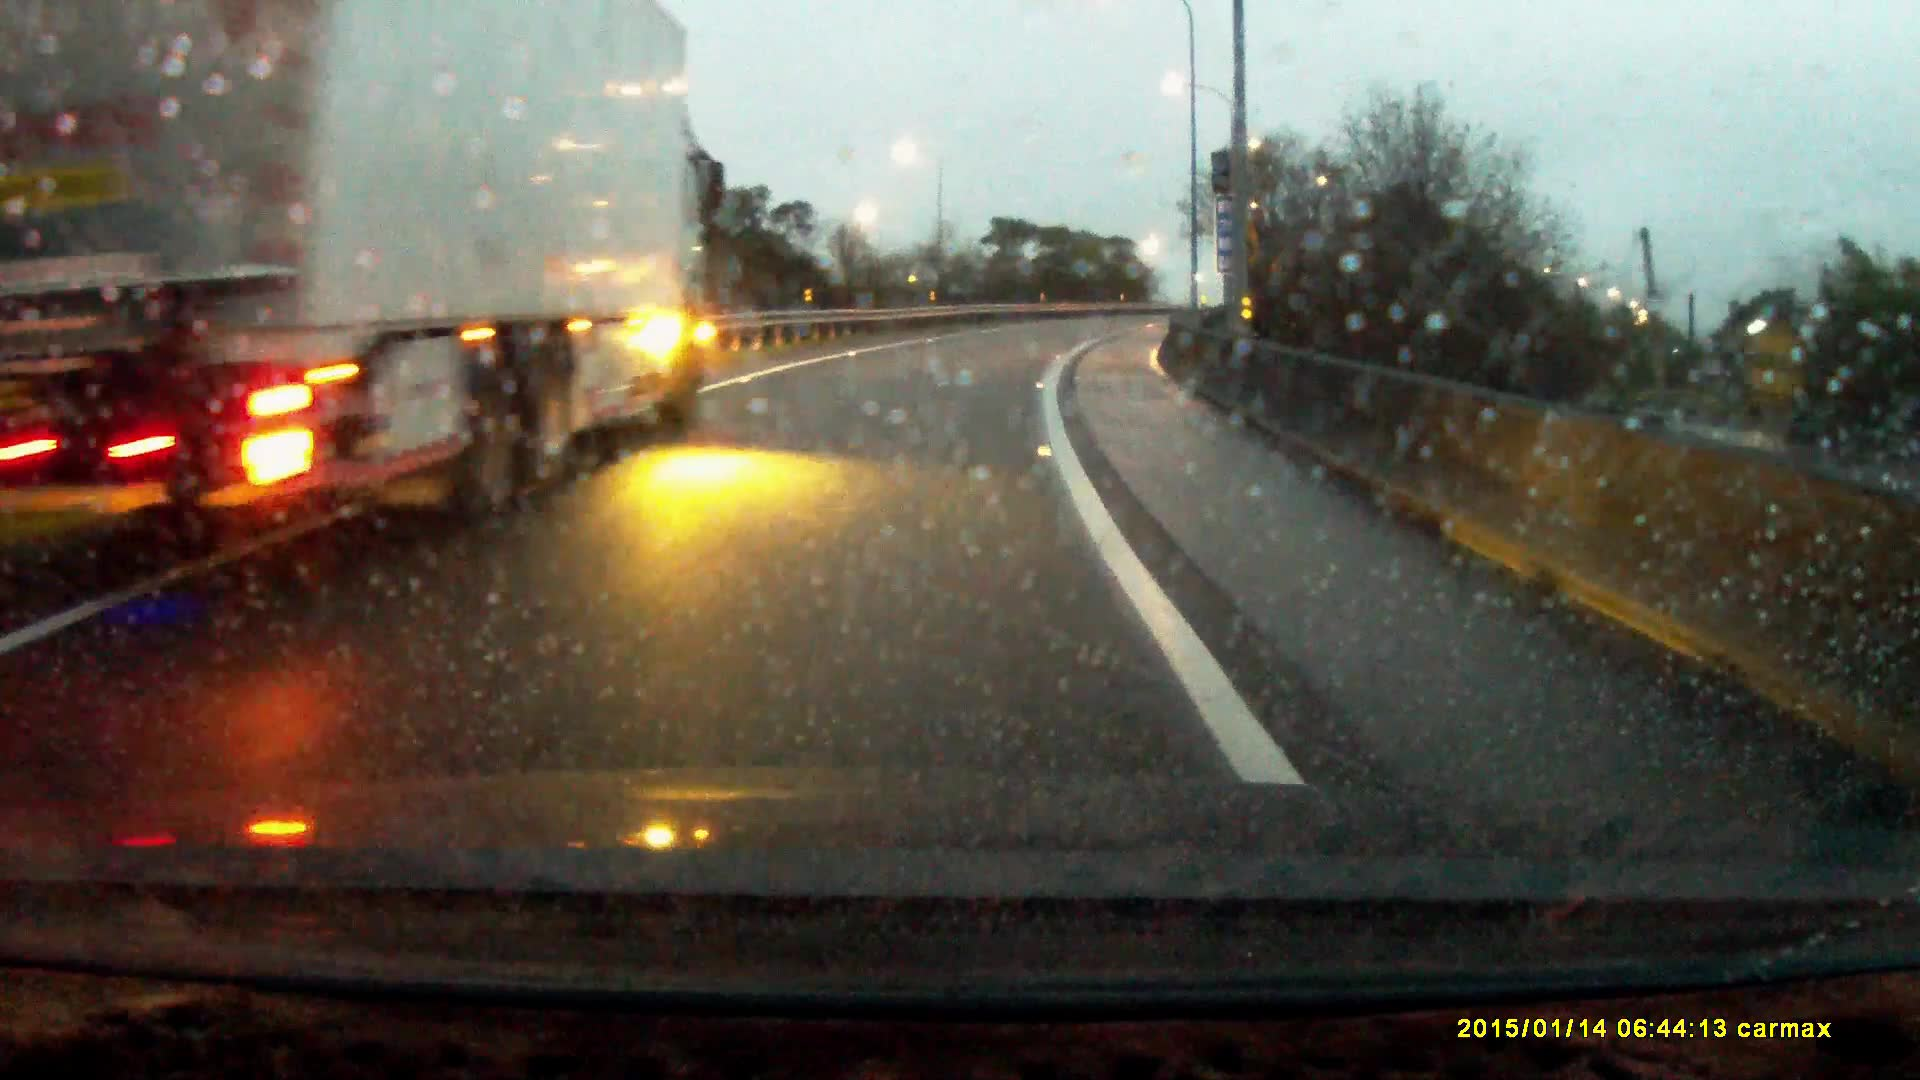vehicle: (18, 1, 720, 568)
